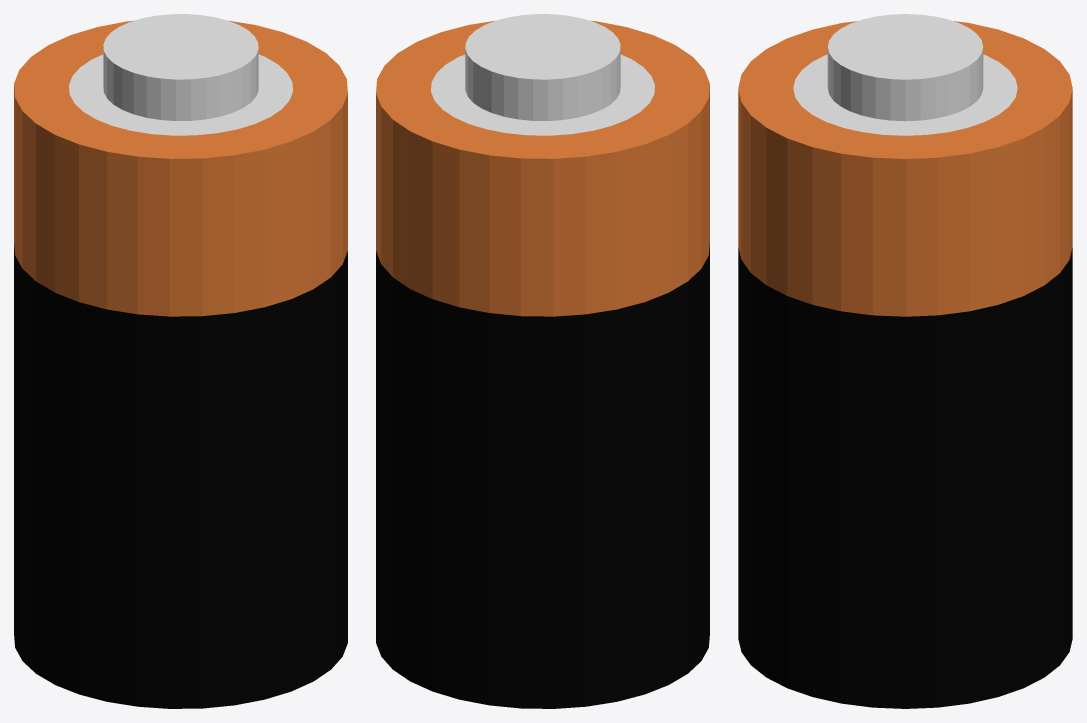
Rendered from Baterai Bulat.fbx.
3 views of the same model, side by side, from view 1: azimuth 30°, elevation 25°; view 2: azimuth 150°, elevation 25°; view 3: azimuth 270°, elevation 25° (orthographic).
Parts seen in each view (by area): view 1: Cylinder; view 2: Cylinder; view 3: Cylinder.
Boxes of the visible parts, x1,y1,x2,y2 form: Cylinder: (14,14,347,708); Cylinder: (376,14,709,708); Cylinder: (738,14,1072,708).
Size of the model in its own units: 200 by 390 by 200.
